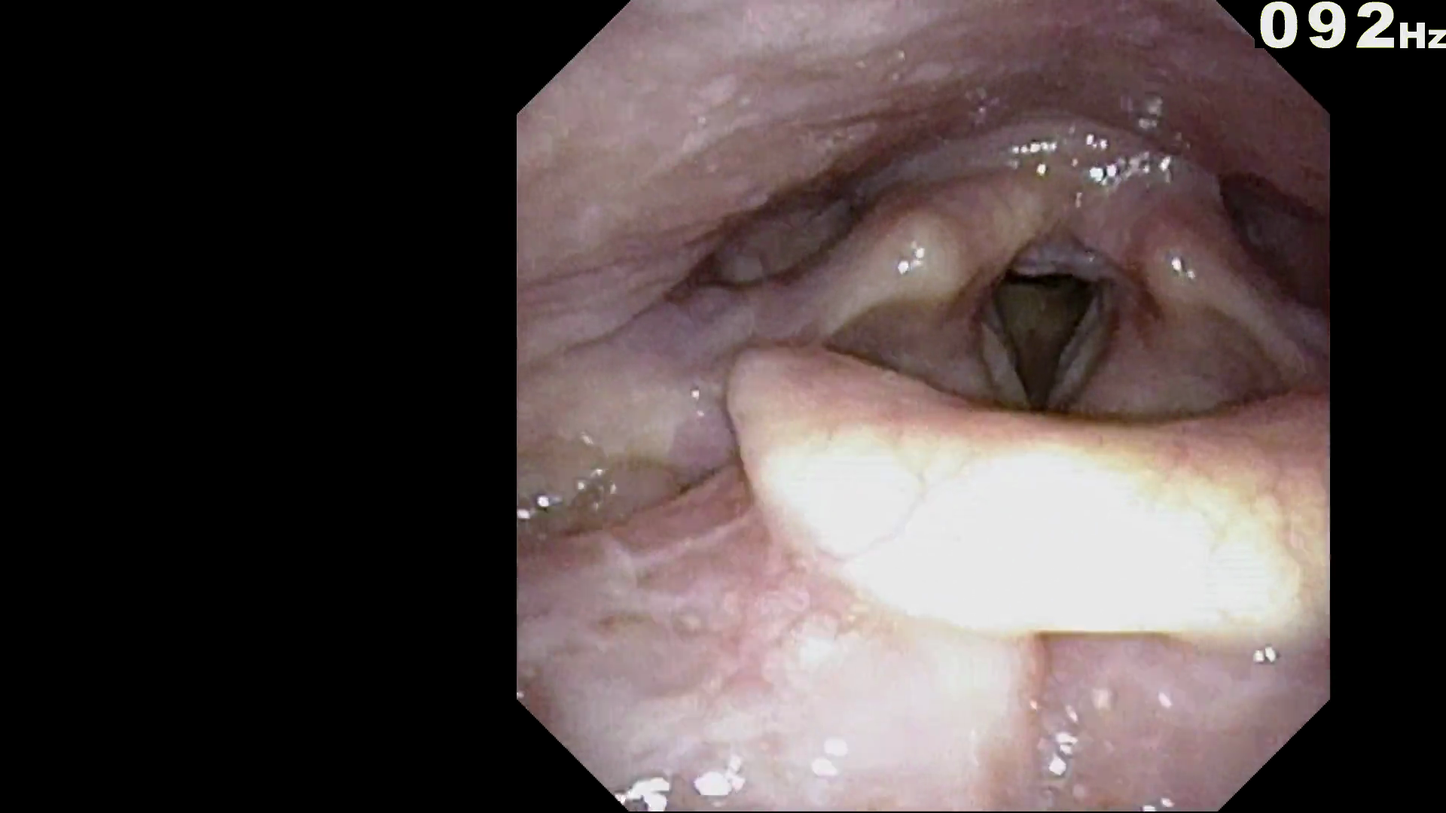epiglottis: (697, 340, 1321, 648)
trachea: (950, 244, 1130, 454)
